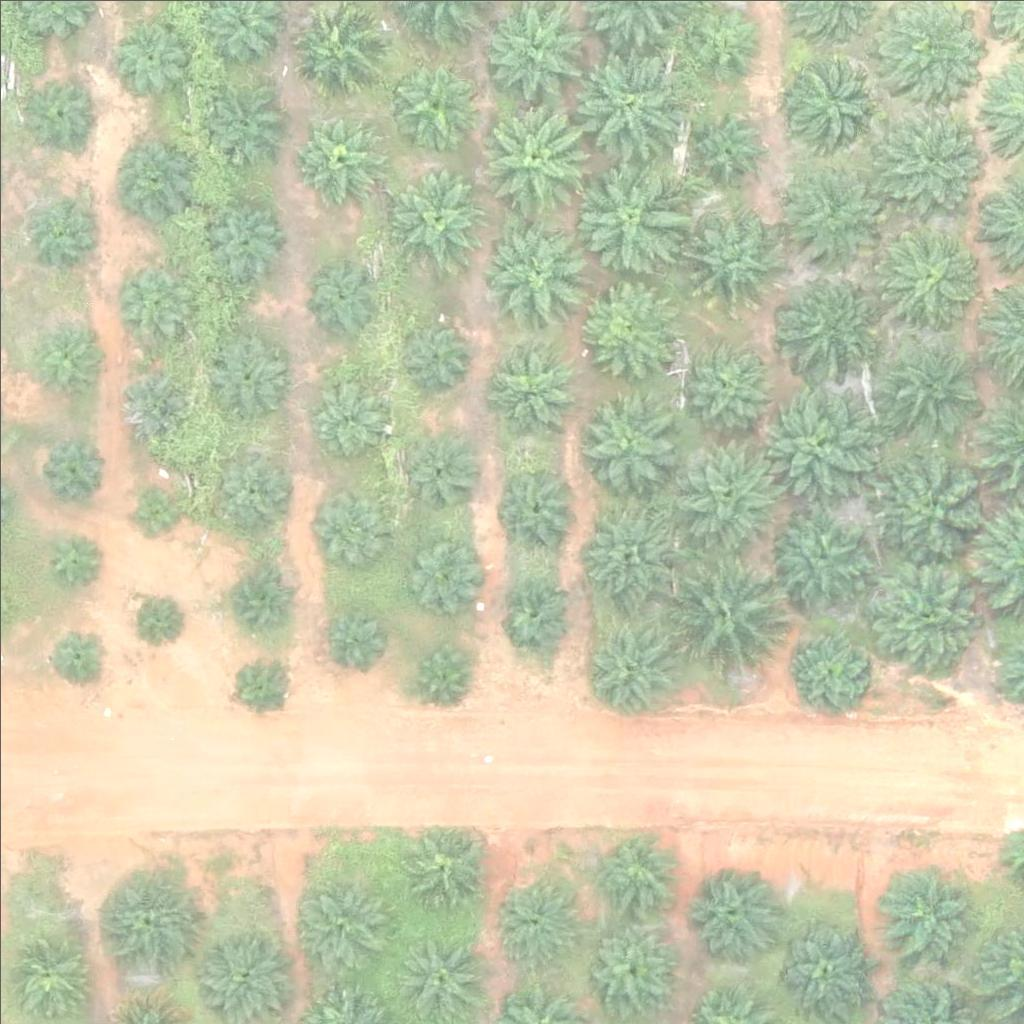Kelapa_Sawit: (860, 553, 985, 679), (872, 442, 997, 568), (867, 95, 992, 221), (752, 378, 877, 504), (661, 552, 786, 678), (665, 429, 790, 555), (563, 153, 688, 279), (563, 40, 688, 166), (471, 93, 596, 219), (876, 864, 976, 965), (292, 878, 392, 979), (93, 872, 193, 973), (877, 331, 977, 432), (876, 230, 976, 331), (769, 275, 869, 376), (781, 170, 881, 271), (678, 207, 778, 308), (785, 53, 885, 154), (770, 916, 870, 1016), (678, 865, 778, 965), (576, 919, 676, 1019), (771, 507, 871, 607), (581, 615, 681, 715), (577, 499, 677, 599), (577, 392, 677, 492), (575, 275, 675, 375), (484, 219, 584, 319), (390, 168, 490, 268), (202, 333, 290, 421), (107, 133, 195, 221), (489, 875, 577, 963), (393, 935, 481, 1023), (396, 825, 484, 913), (487, 341, 575, 429), (198, 193, 286, 281), (389, 56, 477, 144), (493, 462, 580, 550), (589, 828, 676, 916), (682, 337, 769, 425), (294, 112, 381, 200), (199, 74, 286, 162), (311, 383, 386, 459), (401, 435, 476, 511), (396, 316, 471, 392), (307, 260, 382, 336), (789, 634, 864, 710), (501, 574, 576, 650), (403, 533, 478, 608), (310, 491, 385, 566), (212, 447, 287, 522), (685, 4, 760, 79), (18, 71, 93, 146), (30, 187, 105, 262), (120, 261, 195, 336), (692, 107, 767, 182), (113, 362, 188, 437), (112, 13, 187, 88), (230, 655, 293, 718), (229, 566, 292, 629), (32, 326, 95, 389), (411, 639, 473, 702), (321, 606, 383, 669), (46, 624, 108, 687), (42, 524, 104, 587), (42, 437, 104, 500), (128, 592, 178, 643), (129, 486, 179, 537)
